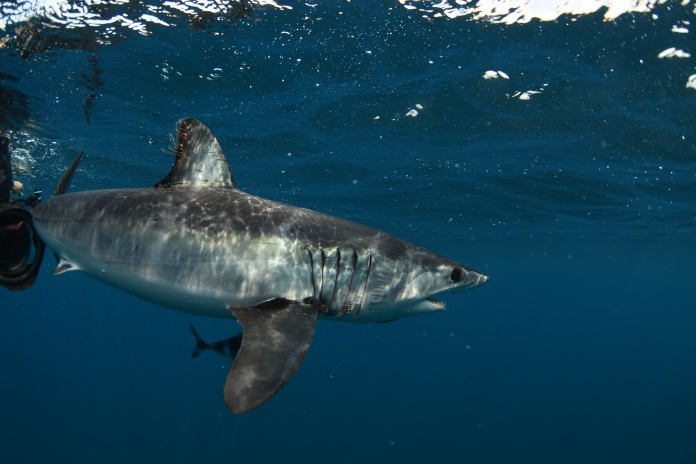Mako: (29, 112, 492, 414)
